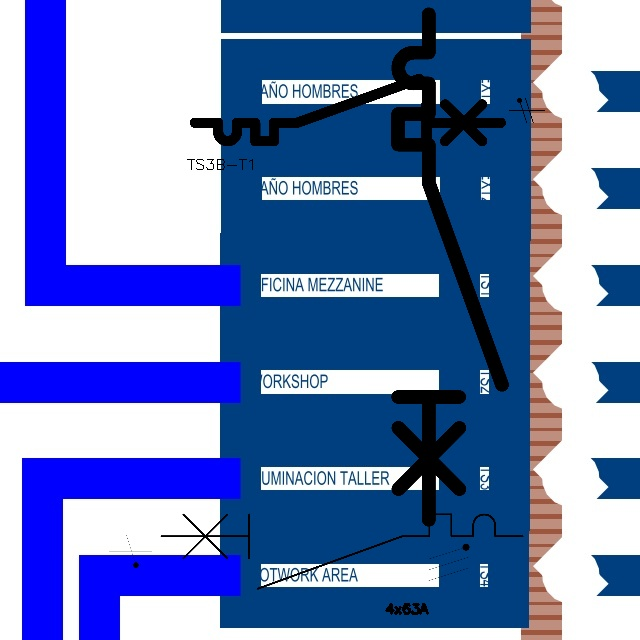interruptor_termomagnetico: (385, 1, 515, 533), (152, 505, 532, 598), (187, 71, 508, 149)
